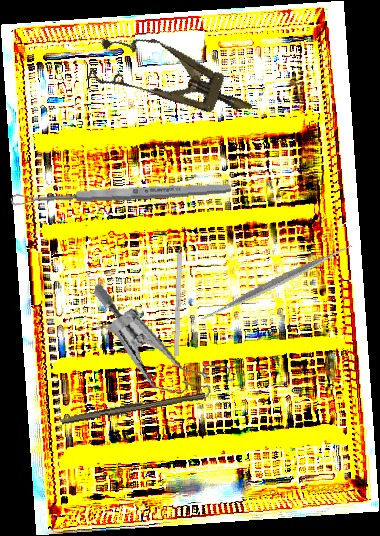Hook Surgical: (173, 228, 184, 357)
Scalpel Handle: (60, 388, 206, 427)
Spatula Surgical: (192, 197, 362, 368)
Speculum: (75, 280, 248, 410), (85, 22, 263, 137)
Surgical Spoon: (9, 181, 233, 207)
